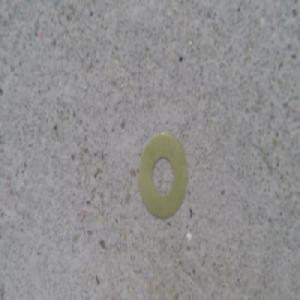Washer: (138, 130, 190, 223)
